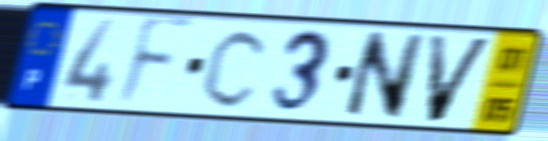3: (267, 25, 340, 118)
4: (58, 15, 119, 107)
C: (199, 26, 273, 111)
F: (111, 13, 198, 113)
N: (339, 28, 429, 122)
V: (424, 31, 498, 126)
